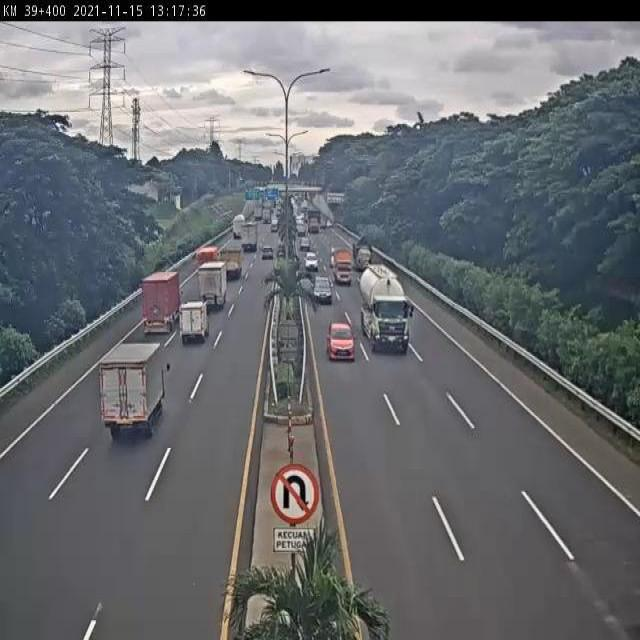car: (327, 322, 356, 362), (311, 274, 334, 306)
truck-l-: (360, 265, 413, 356)
truck-m-: (97, 342, 172, 442), (143, 271, 187, 337), (198, 260, 227, 311), (220, 248, 243, 279)
truck-s-: (178, 302, 212, 346), (352, 233, 374, 272), (332, 252, 355, 287)
